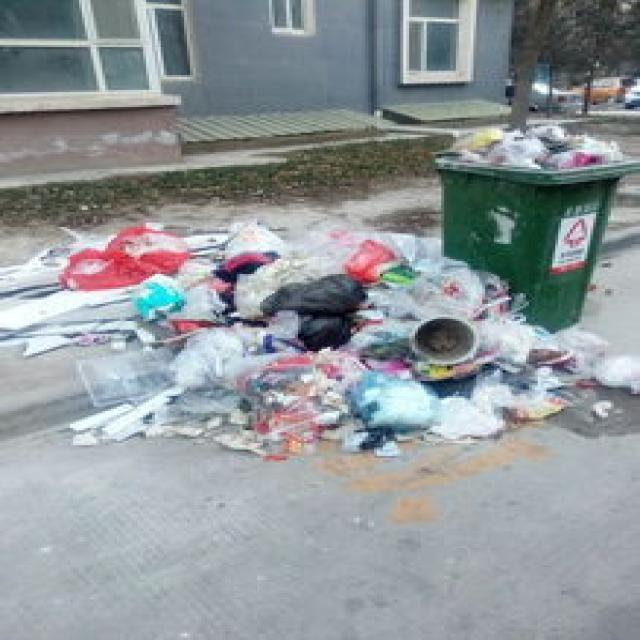garbage: (0, 218, 637, 458)
overflow: (430, 124, 637, 330)
